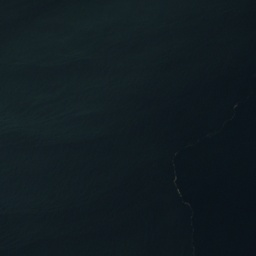Marine Debris: (171, 114, 235, 198)
